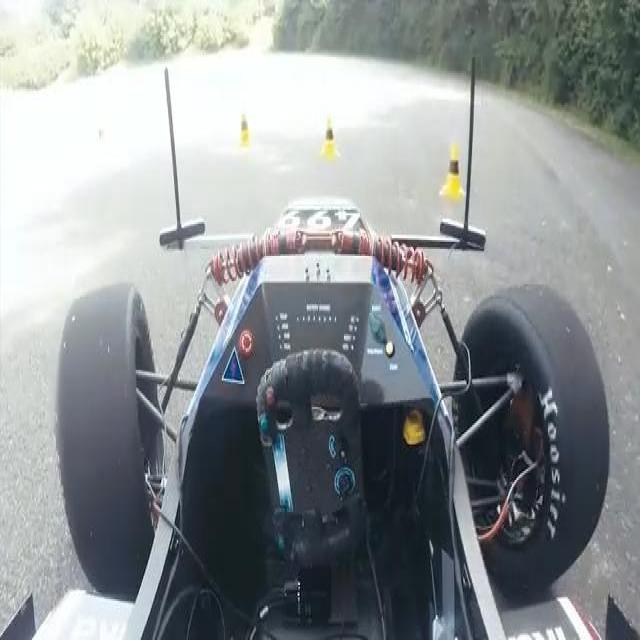yellow_cone: (443, 148, 465, 202), (319, 119, 337, 162), (237, 116, 251, 150)
